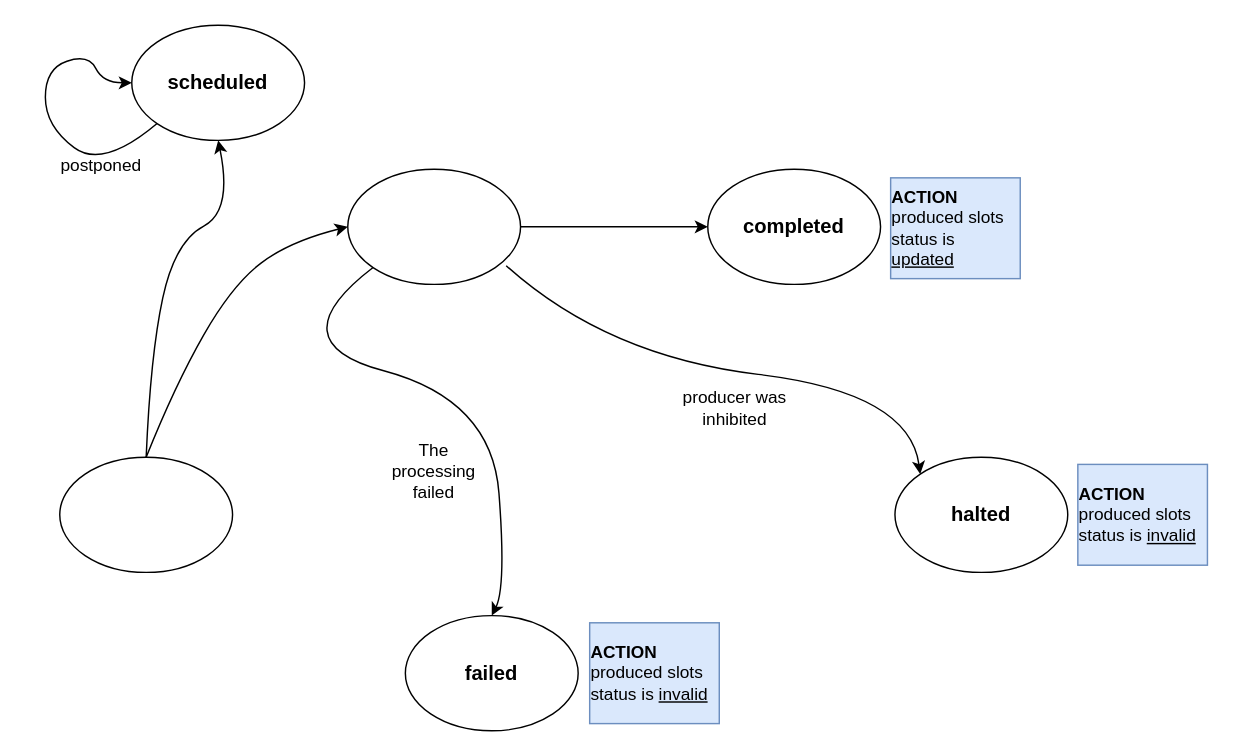
The diagram is 1233 pixels wide and 756 high, and some of its shapes have lost their labels. The shapes that lost their labels are listed below. From the top down, each one's box as (x1, y1, x2, y2) in pixels, then its label:
(346, 168, 521, 284): running
(58, 456, 233, 572): void
